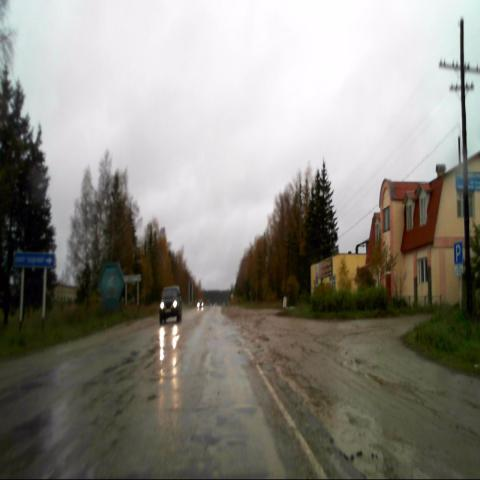6_4: (453, 241, 463, 266)
